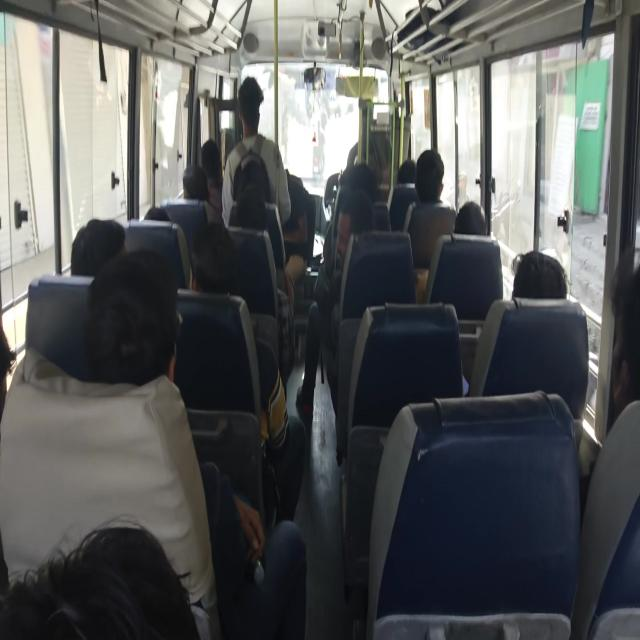person: (42, 516, 231, 640), (90, 255, 174, 406), (263, 158, 313, 277), (59, 212, 122, 285), (606, 274, 640, 399), (498, 237, 552, 312), (178, 224, 235, 291), (339, 195, 395, 257), (446, 193, 493, 253), (240, 90, 273, 166), (414, 150, 454, 209), (177, 166, 219, 218), (138, 198, 179, 247), (192, 149, 226, 189), (232, 193, 264, 234), (360, 171, 385, 198), (397, 157, 425, 181), (243, 172, 268, 198), (343, 166, 370, 186)
